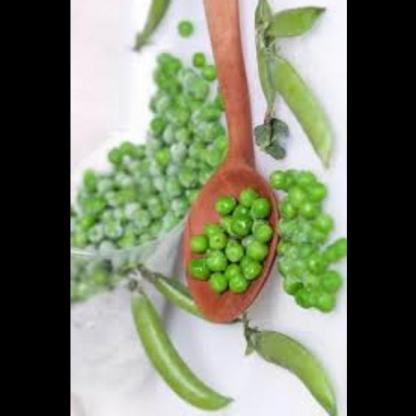peas: (70, 50, 224, 292), (112, 276, 226, 408), (265, 143, 345, 314), (242, 0, 322, 152), (237, 321, 345, 412), (182, 185, 263, 295), (119, 0, 178, 58), (177, 20, 198, 37)
